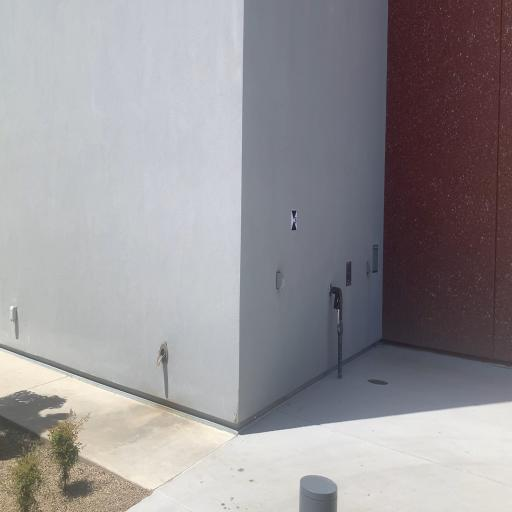target8: (290, 210, 297, 231)
